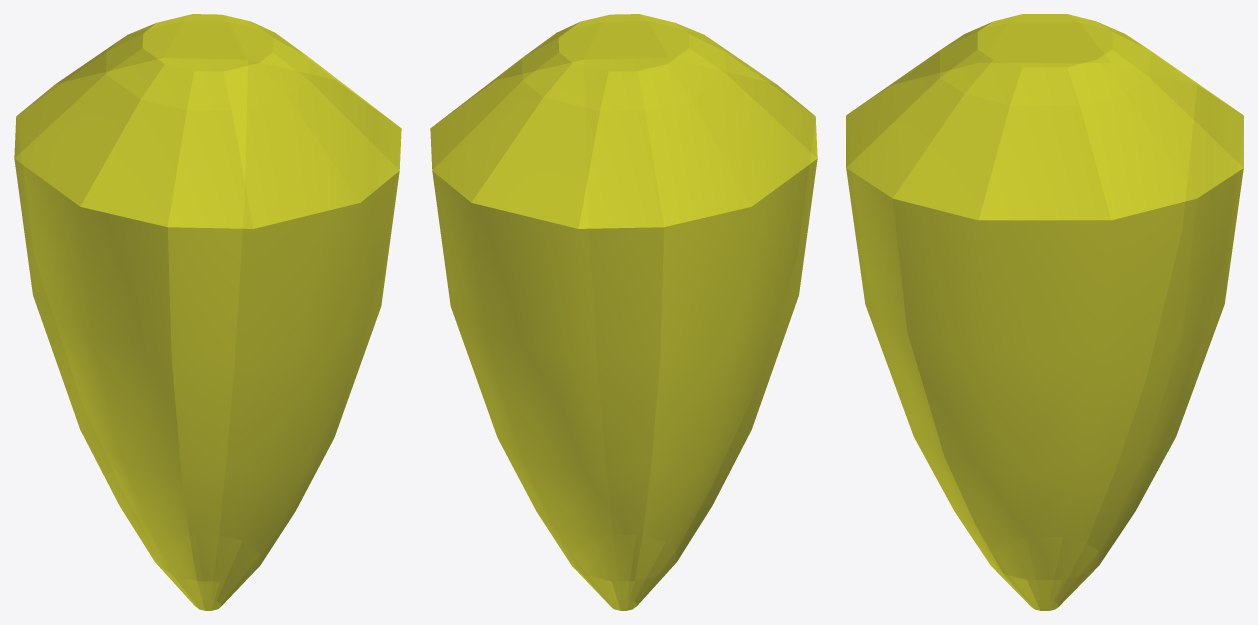
File: RelicYellow.fbx
The picture shows the model from 3 angles, left to right: view 1: azimuth 30°, elevation 25°; view 2: azimuth 150°, elevation 25°; view 3: azimuth 270°, elevation 25°; orthographic projection.
Parts seen in each view (by area): view 1: pCube3; view 2: pCube3; view 3: pCube3.
Boxes of the visible parts, x1,y1,x2,y2 form: pCube3: (14, 14, 401, 610); pCube3: (430, 14, 817, 610); pCube3: (846, 14, 1243, 610).
Bounding box in the file's own units: 8.9 × 14.89 × 9.5.
